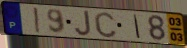8: (147, 14, 167, 42)
9: (46, 8, 66, 35)
C: (93, 11, 119, 39)
I: (32, 7, 42, 34), (133, 14, 141, 40)
J: (74, 9, 93, 37)
